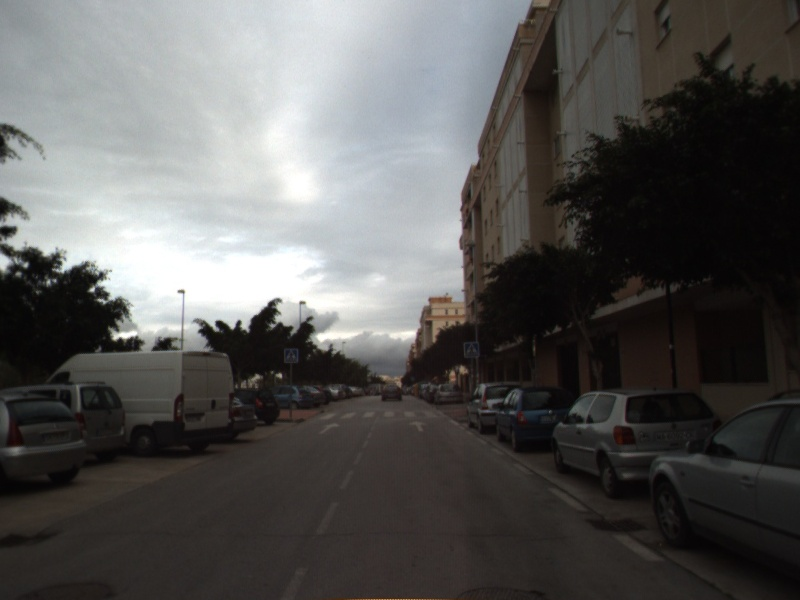STRAIGHT: (316, 421, 343, 436), (407, 419, 429, 433)
